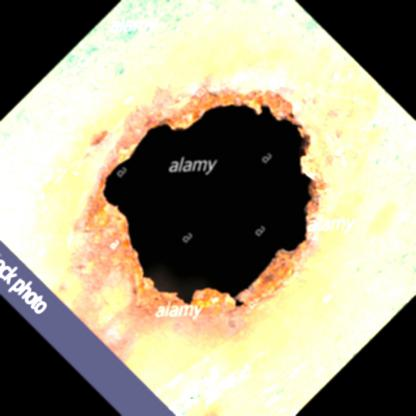burst: (87, 95, 345, 323)
